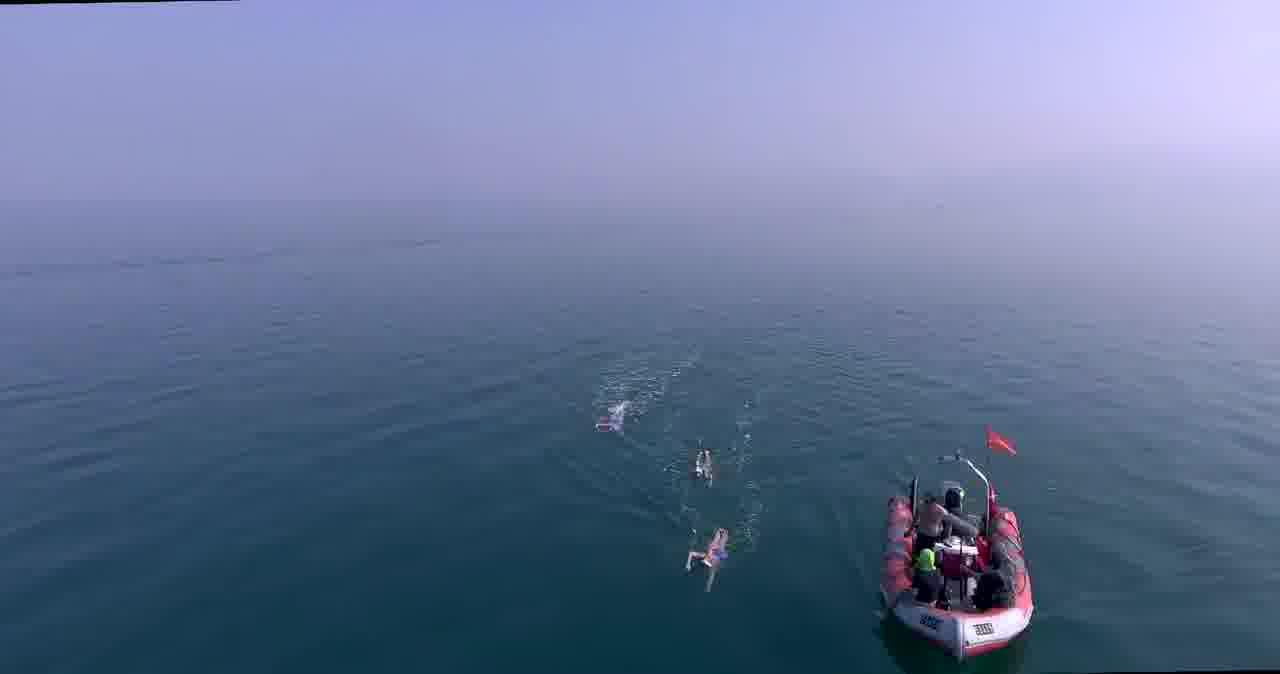human: (681, 536, 738, 574), (683, 452, 722, 476)
